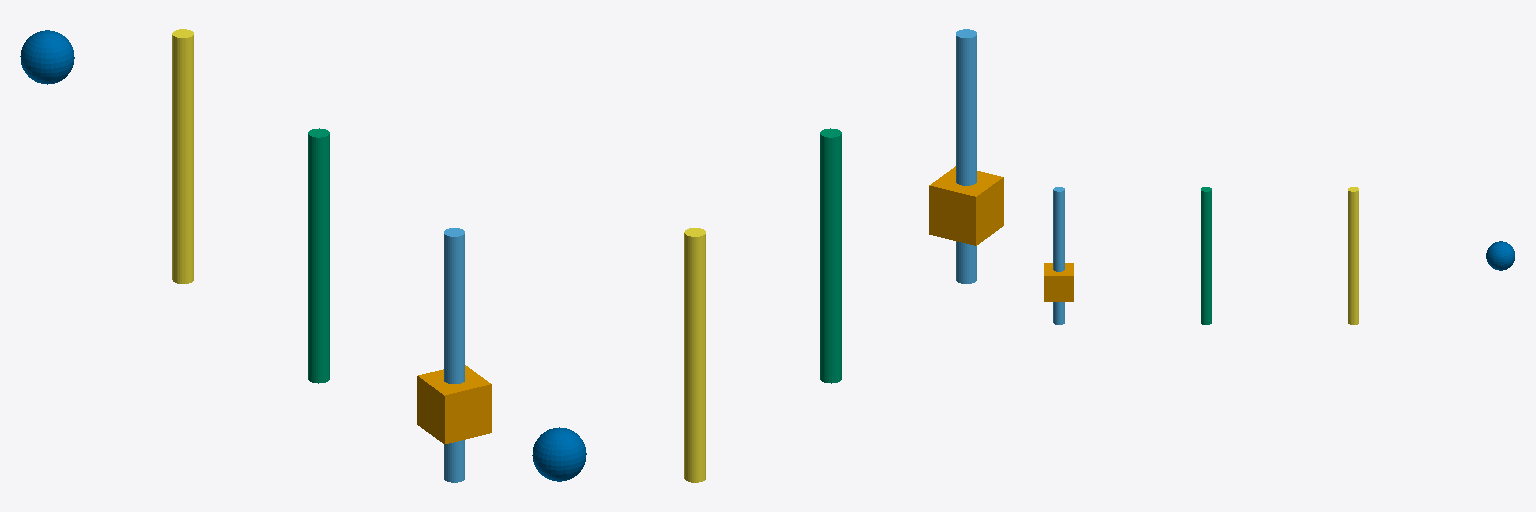
The robot description file, URDF, robot "robot":
<?xml version="1.0"?>
<robot name="robot">
  <link name="base_link">
    <visual>
      <geometry>
        <box size="0.1 0.1 0.1"/>
      </geometry>
    </visual>
  </link>
  <joint name="joint_1" type="revolute">
    <parent link="base_link"/>
    <child link="link_1"/>
    <axis xyz="0 0 1"/>
    <origin rpy="0 0 0" xyz="0 0 0.1"/>
  </joint>
  <link name="link_1">
    <visual>
      <geometry>
        <cylinder radius="0.02" length="0.5"/>
      </geometry>
    </visual>
  </link>
  <joint name="joint_2" type="revolute">
    <parent link="link_1"/>
    <child link="link_2"/>
    <axis xyz="0 1 0"/>
    <origin rpy="0 0 0" xyz="0 0.5 0"/>
  </joint>
  <link name="link_2">
    <visual>
      <geometry>
        <cylinder radius="0.02" length="0.5"/>
      </geometry>
    </visual>
  </link>
  <joint name="joint_3" type="revolute">
    <parent link="link_2"/>
    <child link="link_3"/>
    <axis xyz="0 0 1"/>
    <origin rpy="0 0 0" xyz="0 0.5 0"/>
  </joint>
  <link name="link_3">
    <visual>
      <geometry>
        <cylinder radius="0.02" length="0.5"/>
      </geometry>
    </visual>
  </link>
  <joint name="joint_4" type="revolute">
    <parent link="link_3"/>
    <child link="end_effector"/>
    <axis xyz="0 1 0"/>
    <origin rpy="0 0 0" xyz="0 0.5 0"/>
  </joint>
  <link name="end_effector">
    <visual>
      <geometry>
        <sphere radius="0.05"/>
      </geometry>
    </visual>
  </link>
</robot>

--- Render facts (derived) ---
Views: 3 orthographic renders of the robot side by side, from view 1: azimuth 30°, elevation 25°; view 2: azimuth 150°, elevation 25°; view 3: azimuth 270°, elevation 25°.
Robot: robot — 5 links, 4 joints (4 revolute); root link base_link; default pose: every joint at zero.
Links seen in each view (by area): view 1: link_3, link_2, base_link, link_1, end_effector; view 2: link_3, link_2, base_link, link_1, end_effector; view 3: link_2, link_3, link_1, base_link, end_effector.
Link boxes in pixels (box(x1,y1,x2,y2)): link_3: box(172, 29, 193, 283); link_2: box(308, 128, 329, 383); base_link: box(417, 365, 491, 444); link_1: box(444, 228, 464, 482); end_effector: box(20, 30, 74, 84); link_3: box(684, 228, 705, 482); link_2: box(820, 128, 841, 383); base_link: box(929, 166, 1003, 245); link_1: box(956, 29, 976, 283); end_effector: box(532, 427, 586, 481); link_2: box(1201, 187, 1211, 324); link_3: box(1348, 187, 1358, 324); link_1: box(1053, 187, 1064, 324); base_link: box(1044, 263, 1073, 301); end_effector: box(1486, 241, 1514, 270).
Bounding box of the posed robot: 0.1 × 1.6 × 0.5 m (x, y, z).
Geometry: primitives only (box / cylinder / sphere), no mesh files.